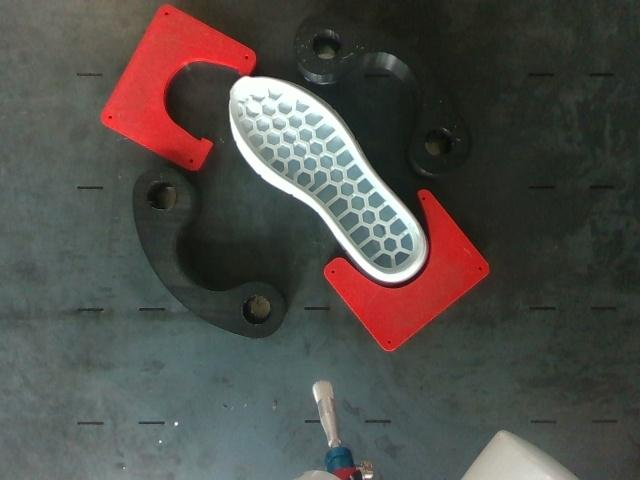shoes: (231, 77, 423, 275)
